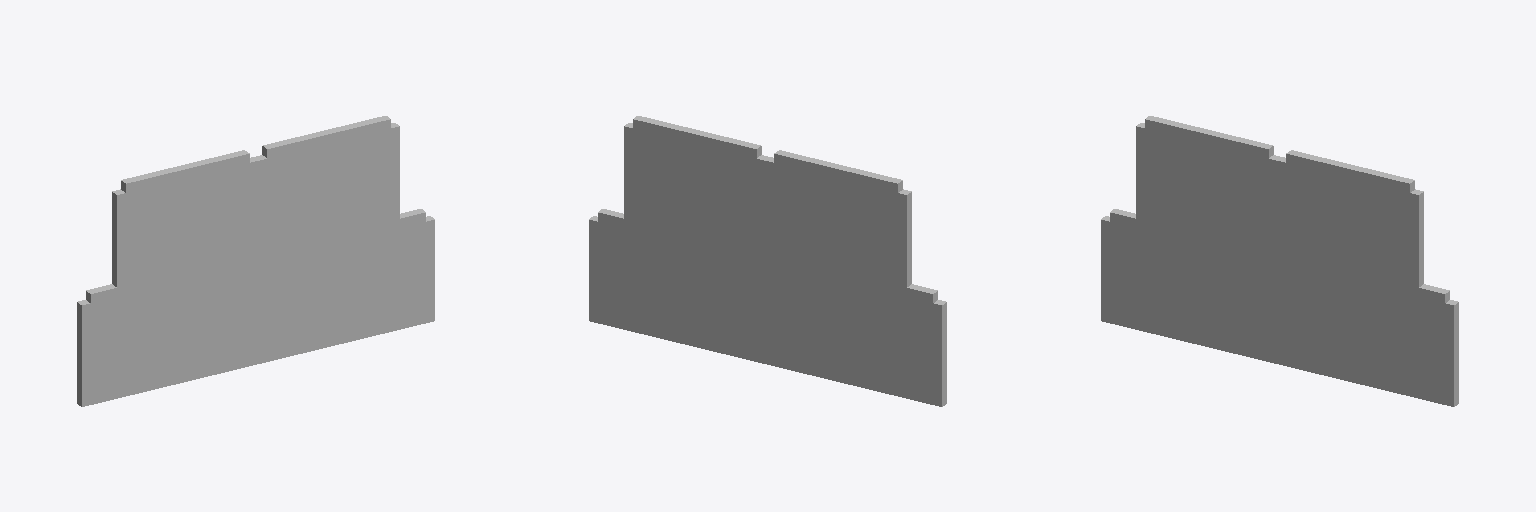
File: Sofa.obj
The picture shows the model from 3 angles: view 1: azimuth 30°, elevation 25°; view 2: azimuth 150°, elevation 25°; view 3: azimuth 330°, elevation 25°; orthographic projection.
Parts seen in each view (by area): view 1: object 1; view 2: object 1; view 3: object 1.
Part boxes in pixels (bbox=[...]): object 1: bbox=[77, 116, 434, 406]; object 1: bbox=[589, 116, 946, 406]; object 1: bbox=[1101, 116, 1458, 406].
Bounding box in the file's own units: 4 × 2.3 × 0.1.